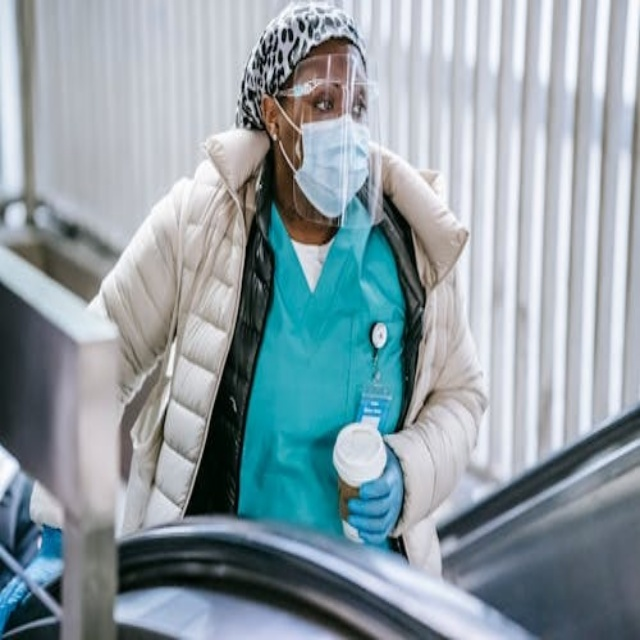Gafas: (276, 69, 379, 117)
Guantes: (347, 442, 404, 546)
Mascara: (282, 95, 371, 217)
